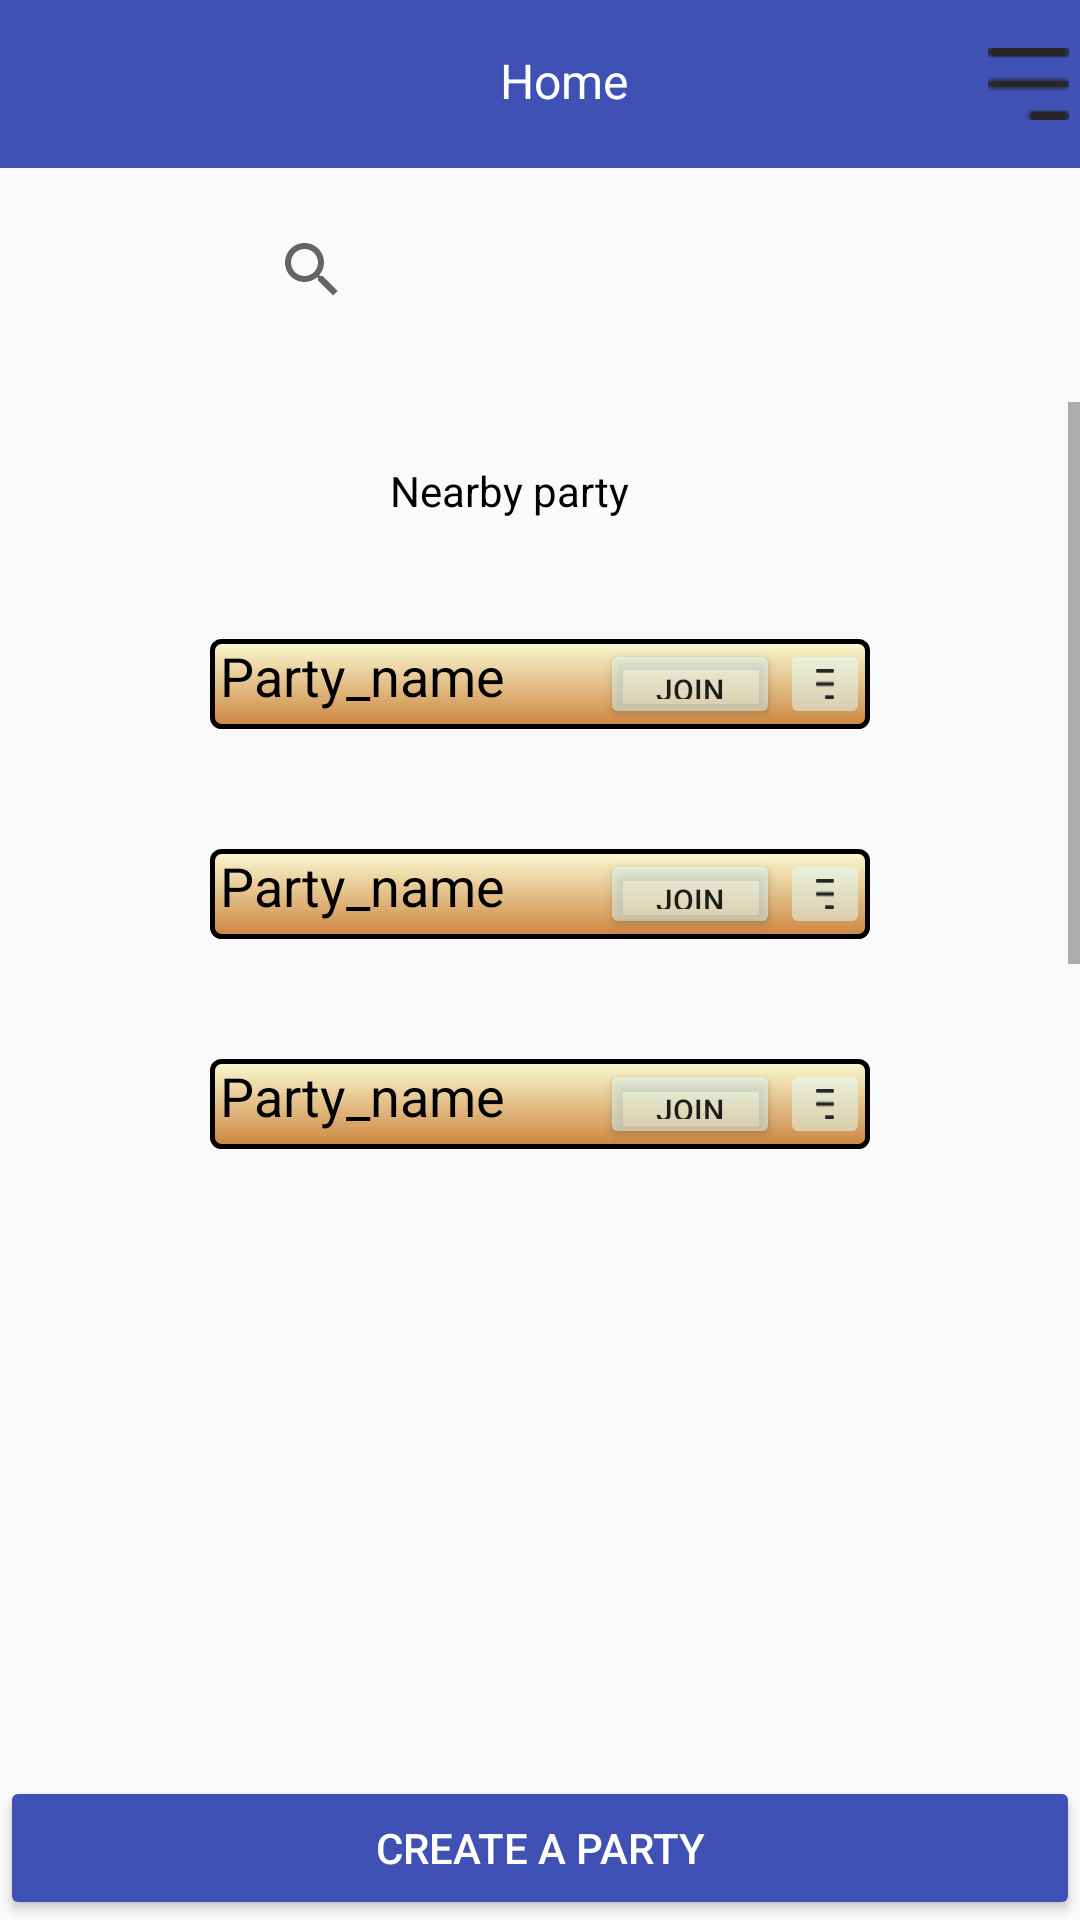

Named icons in this screenshot (1080 × 1920) and their centers, (x=x, y=y):
menu: (x=1028, y=84), (x=825, y=684), (x=825, y=894), (x=825, y=1104)
